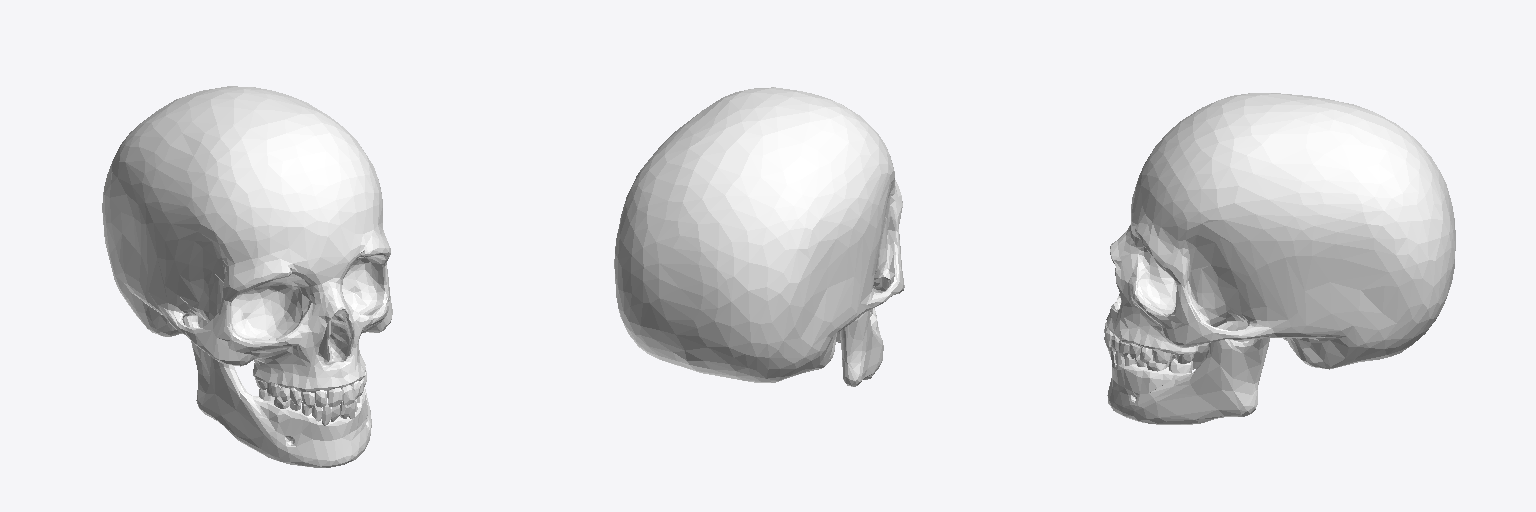
Rendered from skull.obj.
3 renders of one model, left to right at view 1: azimuth 30°, elevation 25°; view 2: azimuth 150°, elevation 25°; view 3: azimuth 270°, elevation 25°, orthographic.
Visible parts, largest first — view 1: 12140_Skull_v3_L2; view 2: 12140_Skull_v3_L2; view 3: 12140_Skull_v3_L2.
Boxes of the visible parts, <box> form: 12140_Skull_v3_L2: <box>102,86,392,467</box>; 12140_Skull_v3_L2: <box>614,87,904,386</box>; 12140_Skull_v3_L2: <box>1104,93,1455,424</box>.
Size of the model in its own units: 0.9702 by 1.34 by 1.44.